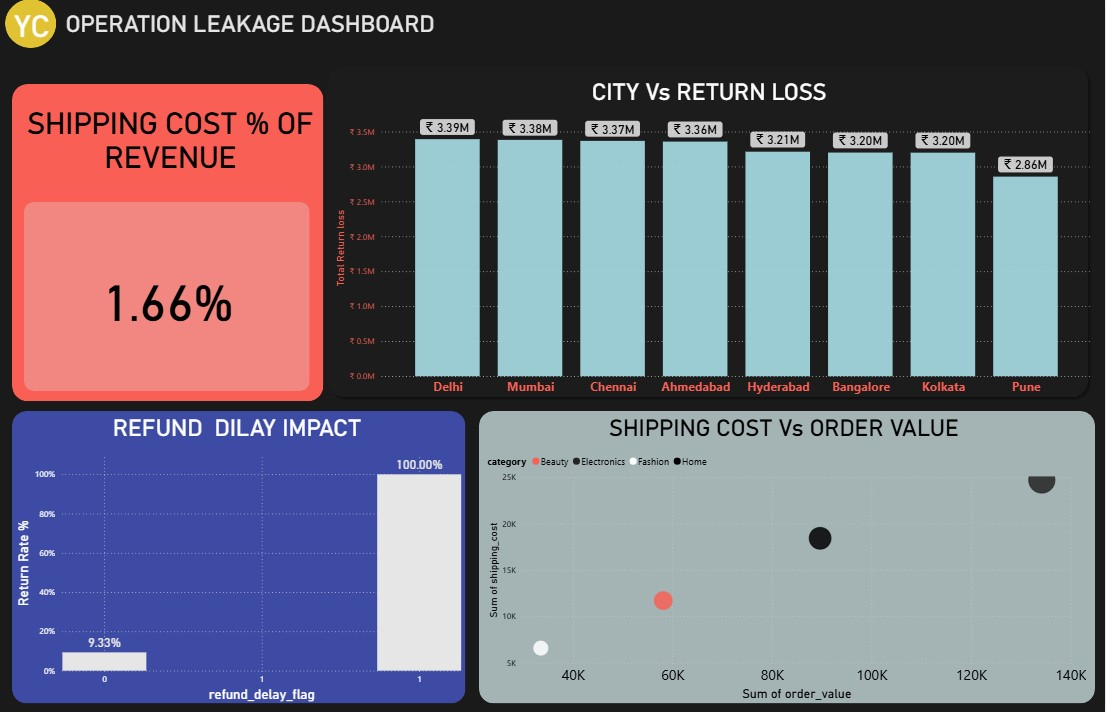

Layout of this report page (visuals, bound fields, positions):
{"tool":"powerbi","page":{"name":"Operation Leakage","canvas":[1580,1020],"ordinal":3},"visuals":[{"type":"shape","box":[18.3,121.7,445,453.3],"z":0},{"type":"shape","box":[35,290,408.3,270],"z":500},{"type":"shape","box":[18.3,589.2,648,418],"z":1000},{"type":"shape","box":[463.3,88.3,1099.7,487.1],"z":2000,"group":"g1"},{"type":"shape","box":[686.3,589.2,880,418],"z":2000},{"type":"clusteredColumnChart","fields":{"Category":["final_analytics_dataset.city"],"Y":["final_analytics_dataset.Total Return loss"]},"box":[475.1,158.2,1092.6,417.3],"z":3000,"group":"g1"},{"type":"scatterChart","fields":{"X":["Sum(final_analytics_dataset.order_value)"],"Y":["Sum(final_analytics_dataset.shipping_cost)"],"Series":["final_analytics_dataset.category"],"Size":["final_analytics_dataset.Total Revenue"]},"box":[693.3,639.7,865,367.5],"z":3000},{"type":"textbox","box":[686.3,589.2,880,50],"z":4000},{"type":"textbox","box":[24.3,589.2,640,50],"z":5000},{"type":"clusteredColumnChart","fields":{"Category":["final_analytics_dataset.refund_delay_flag"],"Y":["final_analytics_dataset.Return Rate %"]},"box":[18.3,638.3,646.7,370],"z":6000},{"type":"group","id":"g1","title":"Group 1","box":[463.3,88.3,1103.3,486.7],"z":7000},{"type":"card","fields":{"Values":["final_analytics_dataset.Shipping Cost % of Revenue"]},"box":[46.7,303.3,388.3,243.3],"z":8000},{"type":"textbox","box":[25,146.7,438.3,131.7],"z":8001},{"type":"shape","box":[8.3,0,73.3,70],"z":8002},{"type":"textbox","box":[5,8.3,81.7,65],"z":8004},{"type":"textbox","box":[73.3,11.7,571.7,53.3],"z":8005},{"type":"textbox","box":[475.1,108.3,1080.7,49.9],"z":9000,"group":"g1"}]}

Visuals, with their boxes in screenshot pixels (x1, y1, x2, y2), scaled from the page's 1580x1020 canvas onto the 1106x712 screenshot:
shape: box(13, 85, 324, 401)
shape: box(24, 202, 310, 391)
shape: box(13, 411, 466, 703)
shape: box(324, 62, 1094, 402)
shape: box(480, 411, 1096, 703)
clusteredColumnChart - final_analytics_dataset.city x final_analytics_dataset.Total Return loss: box(333, 110, 1097, 402)
scatterChart - Sum(final_analytics_dataset.order_value) x Sum(final_analytics_dataset.shipping_cost): box(485, 447, 1091, 703)
textbox: box(480, 411, 1096, 446)
textbox: box(17, 411, 465, 446)
clusteredColumnChart - final_analytics_dataset.refund_delay_flag x final_analytics_dataset.Return Rate %: box(13, 446, 465, 704)
"Group 1" group: box(324, 62, 1097, 401)
card - final_analytics_dataset.Shipping Cost % of Revenue: box(33, 212, 304, 382)
textbox: box(18, 102, 324, 194)
shape: box(6, 0, 57, 49)
textbox: box(4, 6, 61, 51)
textbox: box(51, 8, 451, 45)
textbox: box(333, 76, 1089, 110)
